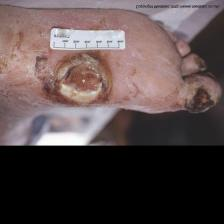Wound: (33, 48, 121, 108), (182, 83, 219, 112)
